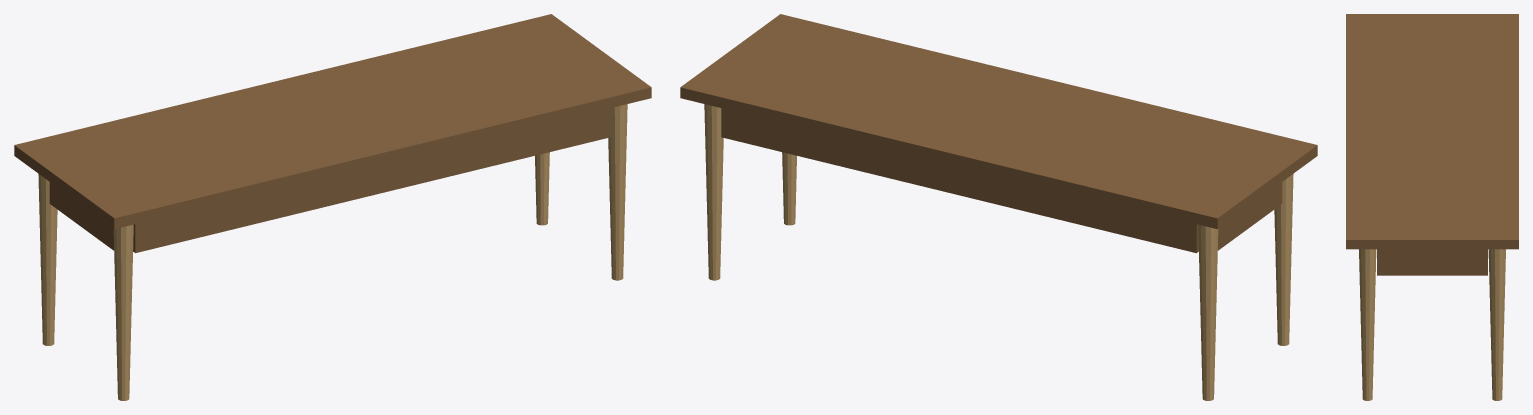
File: ATL-BEB-std.glb
3 renders of one model, left to right at view 1: azimuth 30°, elevation 25°; view 2: azimuth 150°, elevation 25°; view 3: azimuth 270°, elevation 25°, orthographic. The views are drawn at different scales.
Visible parts, largest first — view 1: top:pbr, apron-f:pbr, leg-fl:pbr, leg-fr:pbr, leg-bl:pbr, apron-l:pbr, leg-br:pbr; view 2: top:pbr, apron-b:pbr, leg-bl:pbr, leg-br:pbr, leg-fl:pbr, apron-l:pbr, leg-fr:pbr; view 3: top:pbr, apron-r:pbr, leg-fr:pbr, leg-br:pbr.
Part boxes in pixels (x1,y1,x2,y2): top:pbr: [14, 14, 651, 228]; apron-f:pbr: [133, 108, 610, 253]; leg-fl:pbr: [113, 224, 133, 400]; leg-fr:pbr: [608, 104, 627, 280]; leg-bl:pbr: [38, 174, 57, 345]; apron-l:pbr: [49, 182, 113, 250]; leg-br:pbr: [535, 152, 549, 225]; top:pbr: [680, 14, 1317, 228]; apron-b:pbr: [721, 108, 1198, 253]; leg-bl:pbr: [1198, 224, 1218, 400]; leg-br:pbr: [704, 104, 723, 280]; leg-fl:pbr: [1274, 174, 1293, 345]; apron-l:pbr: [1218, 182, 1282, 250]; leg-fr:pbr: [782, 152, 796, 225]; top:pbr: [1346, 14, 1518, 249]; apron-r:pbr: [1377, 249, 1487, 275]; leg-fr:pbr: [1359, 249, 1376, 400]; leg-br:pbr: [1488, 249, 1505, 400].
Bounding box in the file's own units: 1.3 × 0.45 × 0.42.
